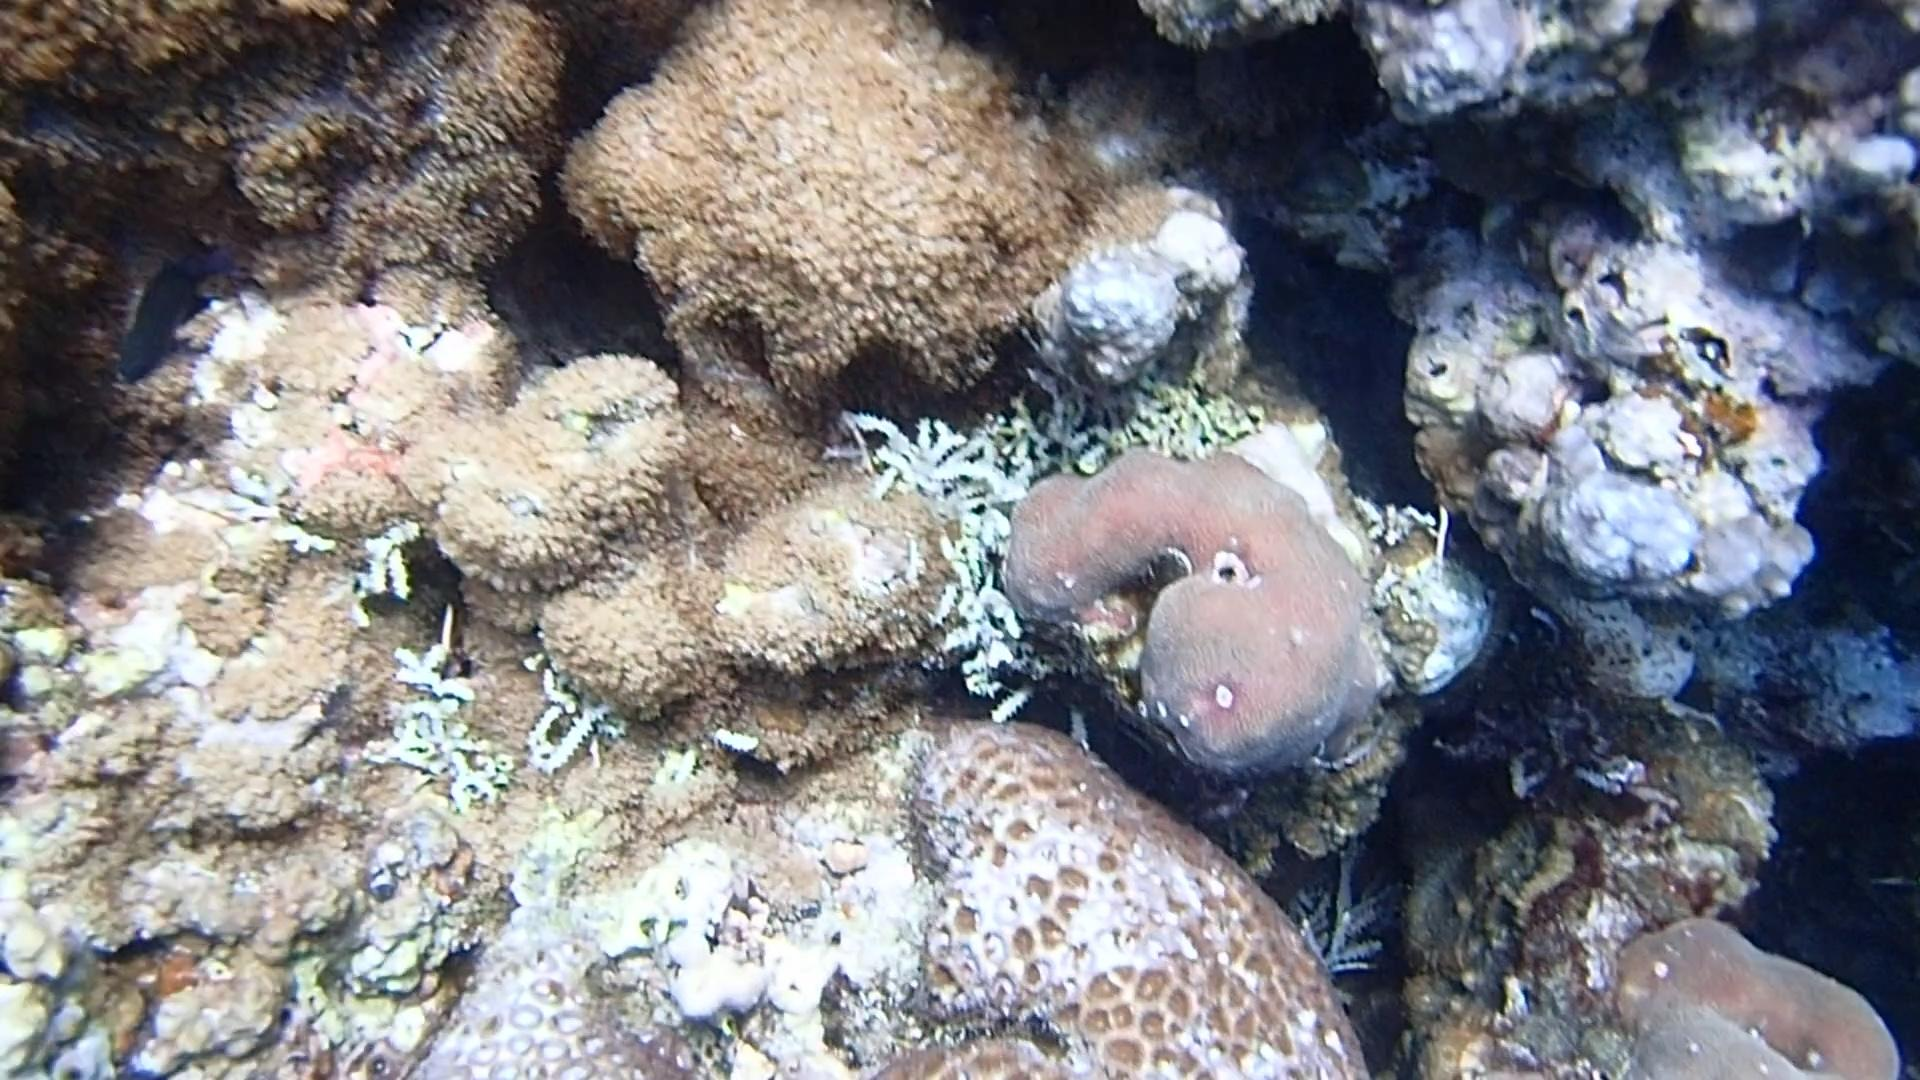Dark Fish: (104, 235, 236, 394)
